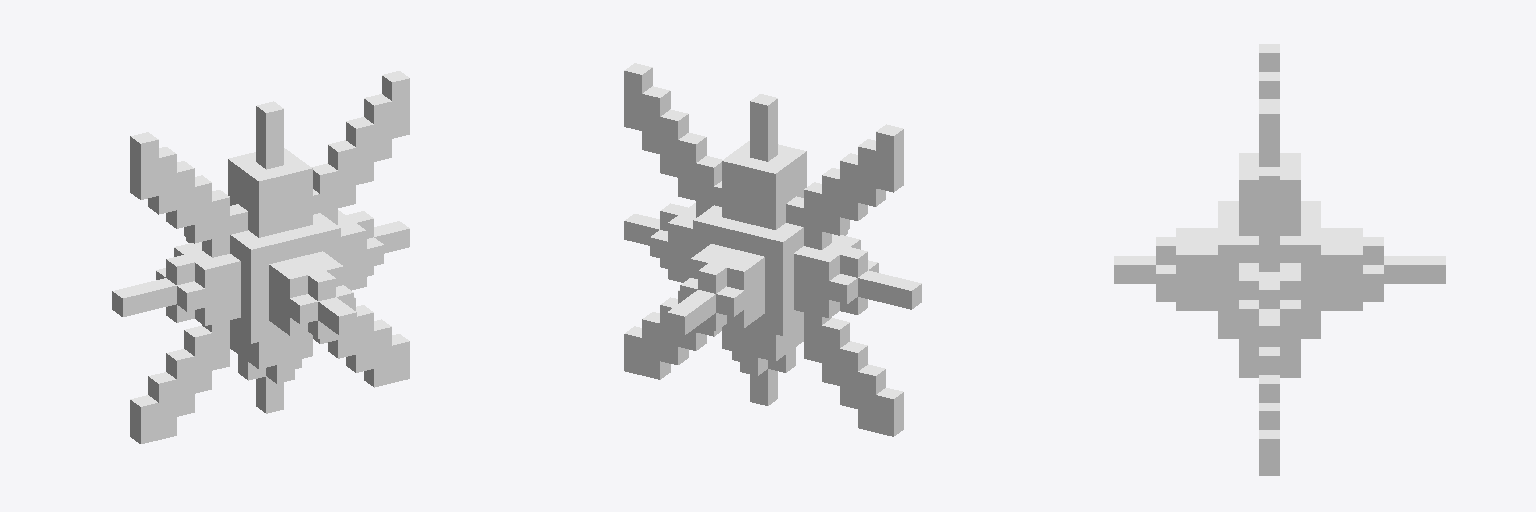
Rendered from pincho.obj.
The picture shows the model from 3 angles: view 1: azimuth 30°, elevation 25°; view 2: azimuth 150°, elevation 25°; view 3: azimuth 270°, elevation 25°; orthographic projection.
Parts seen in each view (by area): view 1: object 1; view 2: object 1; view 3: object 1.
Part boxes in pixels (x1,y1,x2,y2): object 1: (112, 71, 409, 443); object 1: (624, 63, 921, 436); object 1: (1114, 44, 1445, 475).
Bounding box in the file's own units: 1.6 × 1.6 × 1.6.